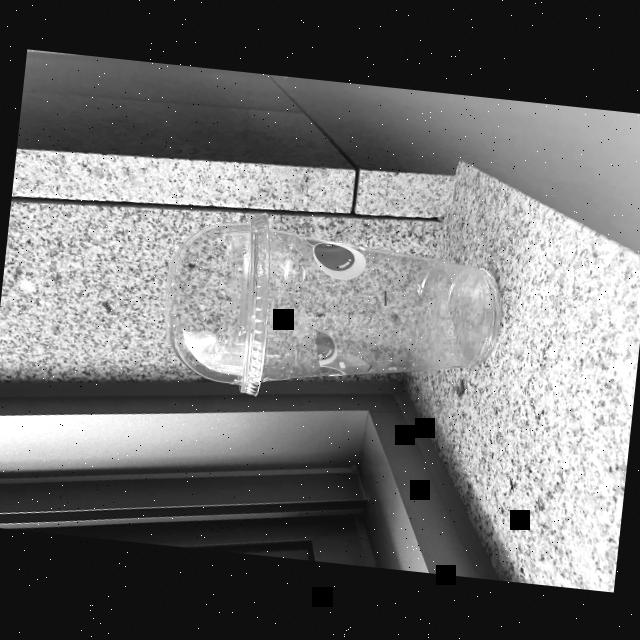plastic_cup: (159, 203, 511, 424)
